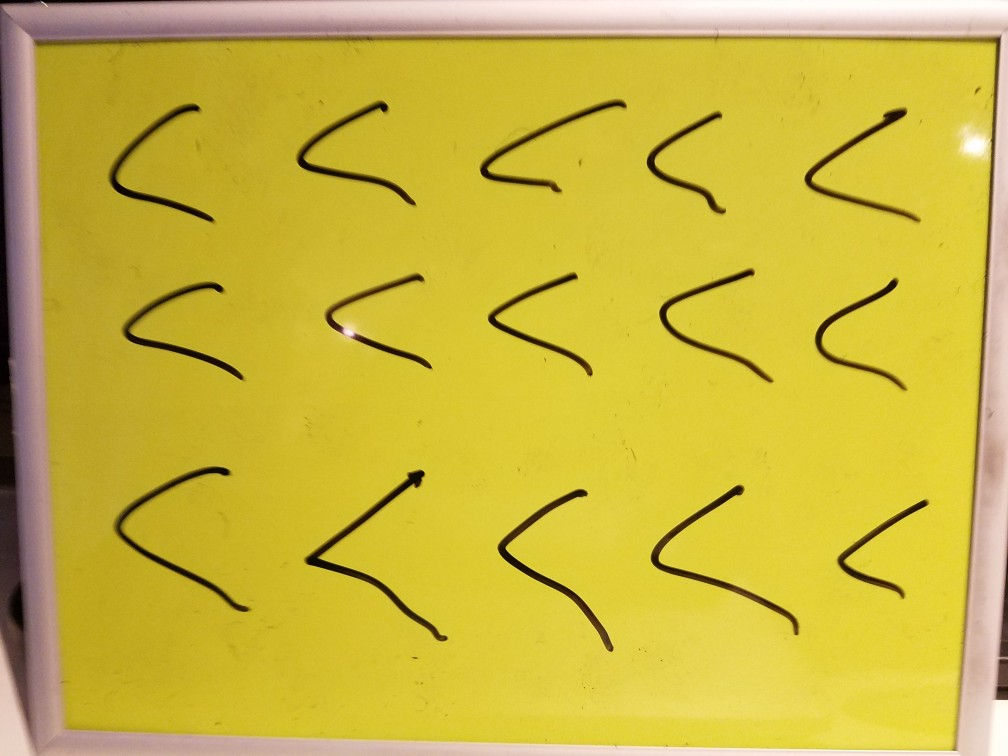<: (298, 462, 447, 645), (471, 483, 618, 653), (80, 77, 229, 238), (91, 460, 245, 615), (787, 88, 941, 233), (280, 85, 433, 223), (468, 73, 611, 220), (99, 264, 259, 389), (816, 477, 945, 632), (654, 489, 785, 639), (306, 258, 439, 383), (645, 264, 770, 385), (807, 275, 907, 400), (482, 266, 588, 383), (633, 104, 738, 220)
